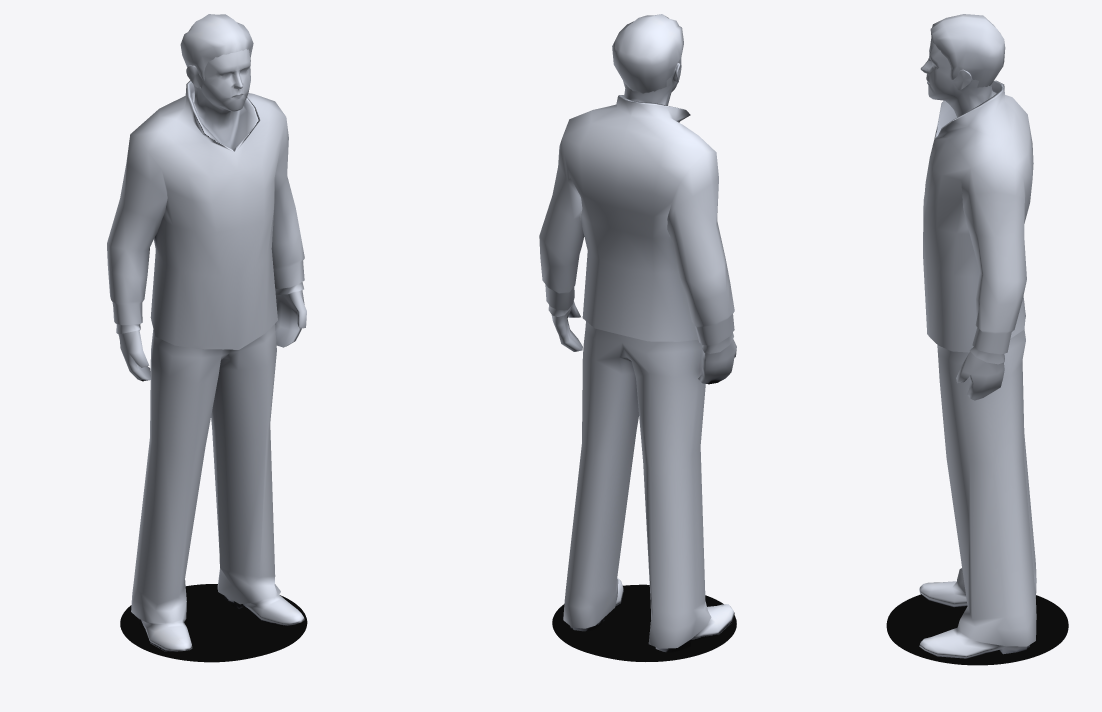
Rendered from man.fbx.
3 renders of one model, left to right at view 1: azimuth 30°, elevation 25°; view 2: azimuth 150°, elevation 25°; view 3: azimuth 270°, elevation 25°, orthographic.
Visible parts, largest first — view 1: model_man_body, model_man_shadow, model_man_hair; view 2: model_man_body, model_man_shadow, model_man_hair; view 3: model_man_body, model_man_shadow, model_man_hair.
Part boxes in pixels (x1,y1,x2,y2): model_man_body: [107, 49, 306, 651]; model_man_shadow: [120, 584, 307, 662]; model_man_hair: [180, 14, 253, 80]; model_man_body: [539, 63, 736, 652]; model_man_shadow: [552, 584, 736, 661]; model_man_hair: [612, 14, 683, 93]; model_man_body: [919, 38, 1036, 658]; model_man_shadow: [886, 594, 1068, 665]; model_man_hair: [930, 14, 1005, 87].
Size of the model in its own units: 0.904 by 1.8 by 0.5835.
2 materials, 2 textured.
